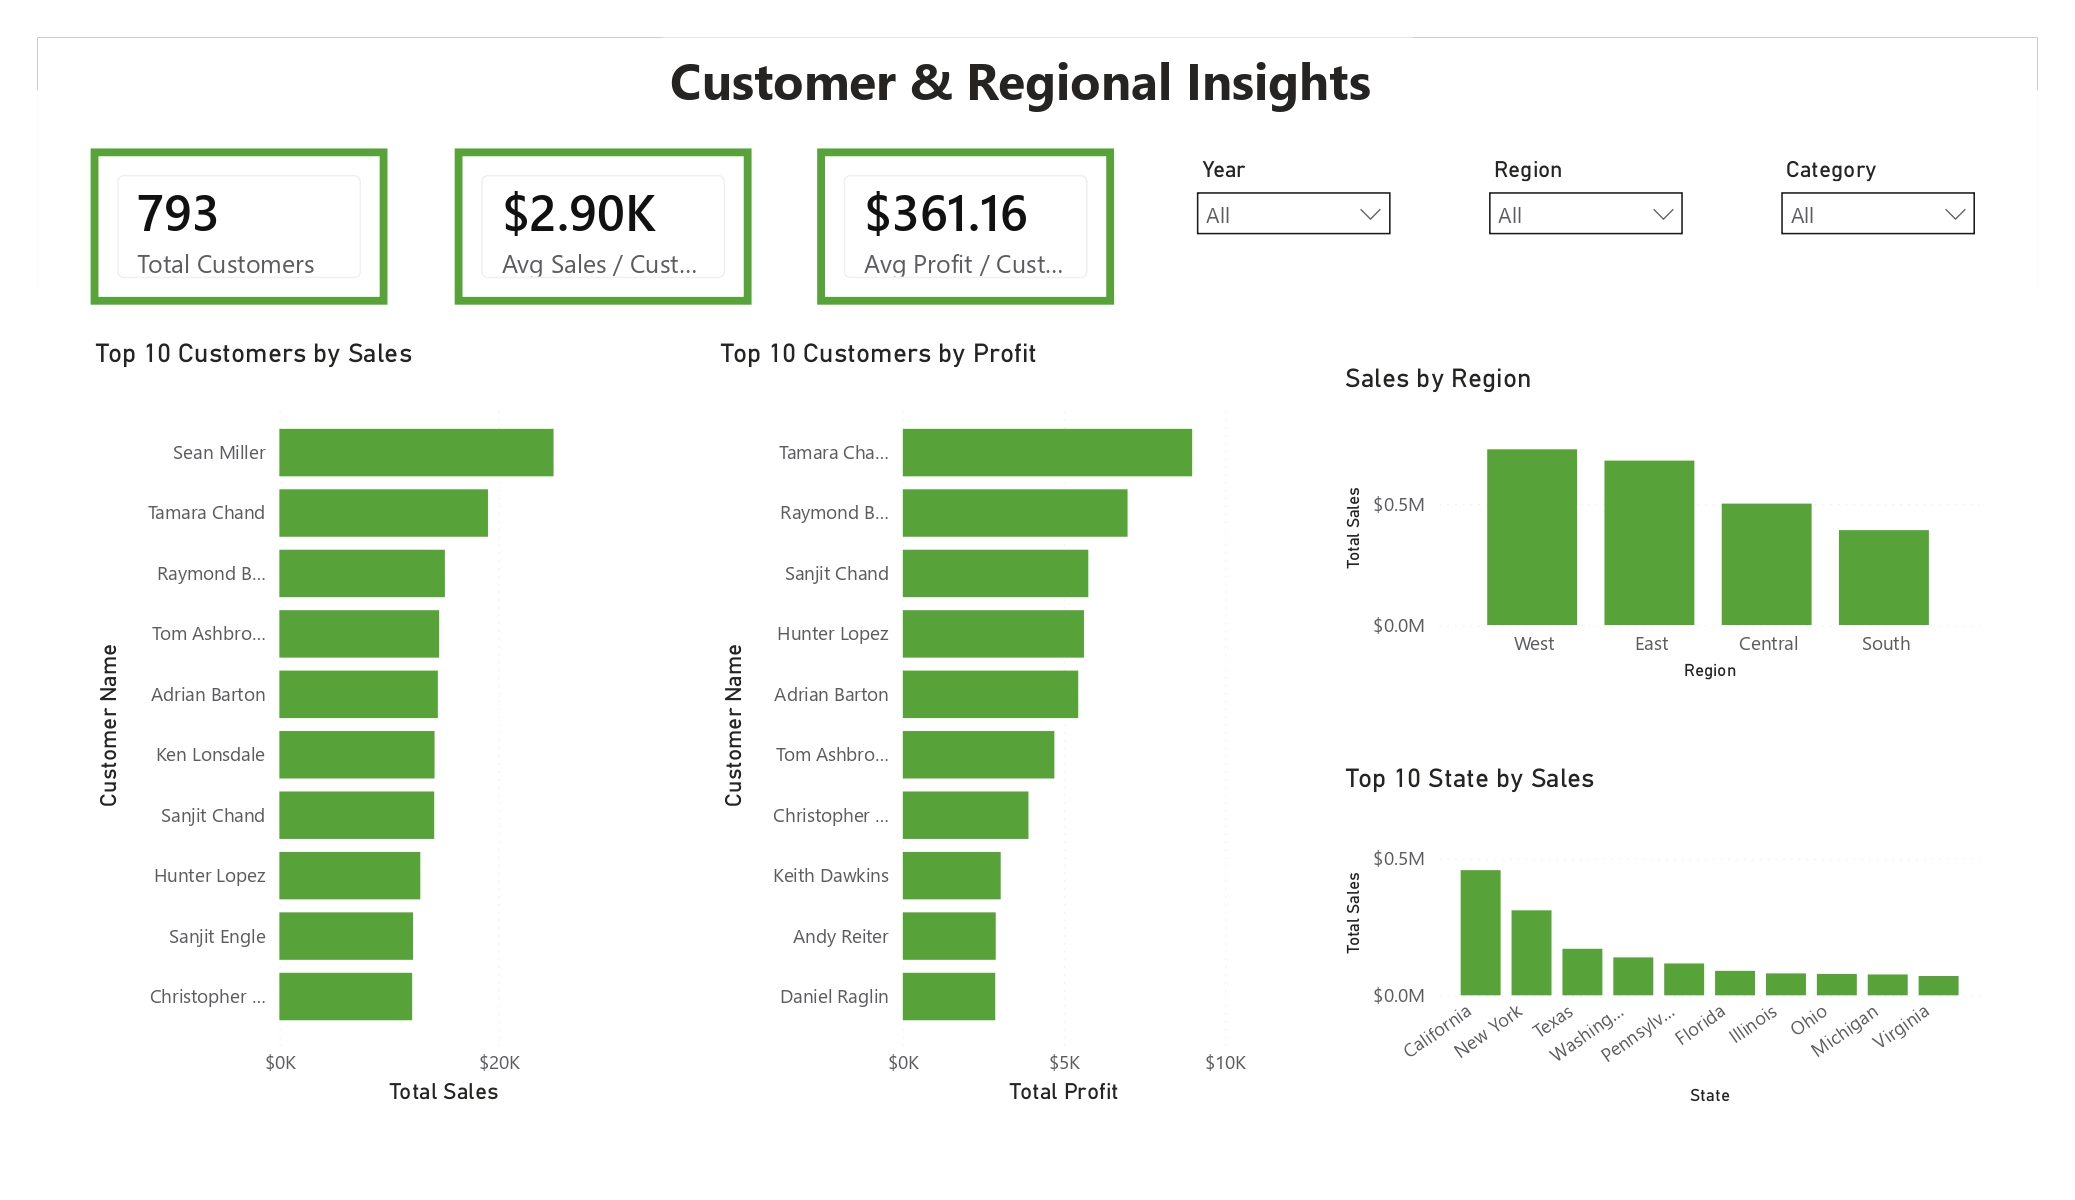

What the dashboard file says about the page in this screenshot:
{"tool":"powerbi","page":{"name":"Customer & Regional Insights","canvas":[1280,720],"ordinal":4},"visuals":[{"type":"cardVisual","fields":{"Data":["orders.Total Customers"]},"box":[33.7,71.2,190,100],"z":0},{"type":"cardVisual","fields":{"Data":["orders.Average Sales per Customer"]},"box":[266.5,71.2,190,100],"z":1000},{"type":"cardVisual","fields":{"Data":["orders.Average Profit per Customer"]},"box":[499.3,71.2,190,100],"z":2000},{"type":"slicer","fields":{"Values":["Date.Date Hierarchy.Year"]},"box":[732.1,71.2,144,64],"z":3000},{"type":"slicer","fields":{"Values":["orders.Region"]},"box":[918.9,71.2,144,64],"z":4000},{"type":"slicer","fields":{"Values":["orders.Category"]},"box":[1105.7,71.2,144,64],"z":5000},{"type":"clusteredBarChart","title":"Top 10 Customers by Sales","fields":{"Category":["orders.Customer Name"],"Y":["orders.Total Sales"]},"box":[32,192,352,496],"z":6000},{"type":"clusteredBarChart","title":"Top 10 Customers by Profit","fields":{"Category":["orders.Customer Name"],"Y":["orders.Total Profit"]},"box":[432,192,352,496],"z":7000},{"type":"clusteredColumnChart","title":"Top 10 State by Sales","fields":{"Category":["orders.State"],"Y":["orders.Total Sales"]},"box":[832,464,416,224],"z":8000},{"type":"clusteredColumnChart","title":"Sales by Region","fields":{"Category":["orders.Region"],"Y":["orders.Total Sales"]},"box":[832,208,416,208],"z":9000},{"type":"textbox","box":[400,0,480,64],"z":9001}]}

Visuals, with their boxes on the page's 1280x720 design canvas (x1, y1, x2, y2). These are canvas units, not pixel positions in the 2075x1200 screenshot, which may show the page scaled, cropped or inside an application window:
cardVisual - orders.Total Customers: (x1=34, y1=71, x2=224, y2=171)
cardVisual - orders.Average Sales per Customer: (x1=266, y1=71, x2=456, y2=171)
cardVisual - orders.Average Profit per Customer: (x1=499, y1=71, x2=689, y2=171)
slicer - Date.Date Hierarchy.Year: (x1=732, y1=71, x2=876, y2=135)
slicer - orders.Region: (x1=919, y1=71, x2=1063, y2=135)
slicer - orders.Category: (x1=1106, y1=71, x2=1250, y2=135)
"Top 10 Customers by Sales" clusteredBarChart: (x1=32, y1=192, x2=384, y2=688)
"Top 10 Customers by Profit" clusteredBarChart: (x1=432, y1=192, x2=784, y2=688)
"Top 10 State by Sales" clusteredColumnChart: (x1=832, y1=464, x2=1248, y2=688)
"Sales by Region" clusteredColumnChart: (x1=832, y1=208, x2=1248, y2=416)
textbox: (x1=400, y1=0, x2=880, y2=64)
